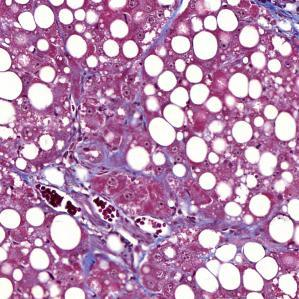fibrosis: (84, 175, 200, 279)
